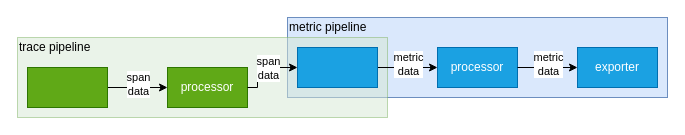
Image size: 685x135. Some labels were removed from this diagram. The centre of each missing label's shape, as x and y in pixels:
"connector" goes at pixel 337 67.
"receiver" goes at pixel 67 87.
